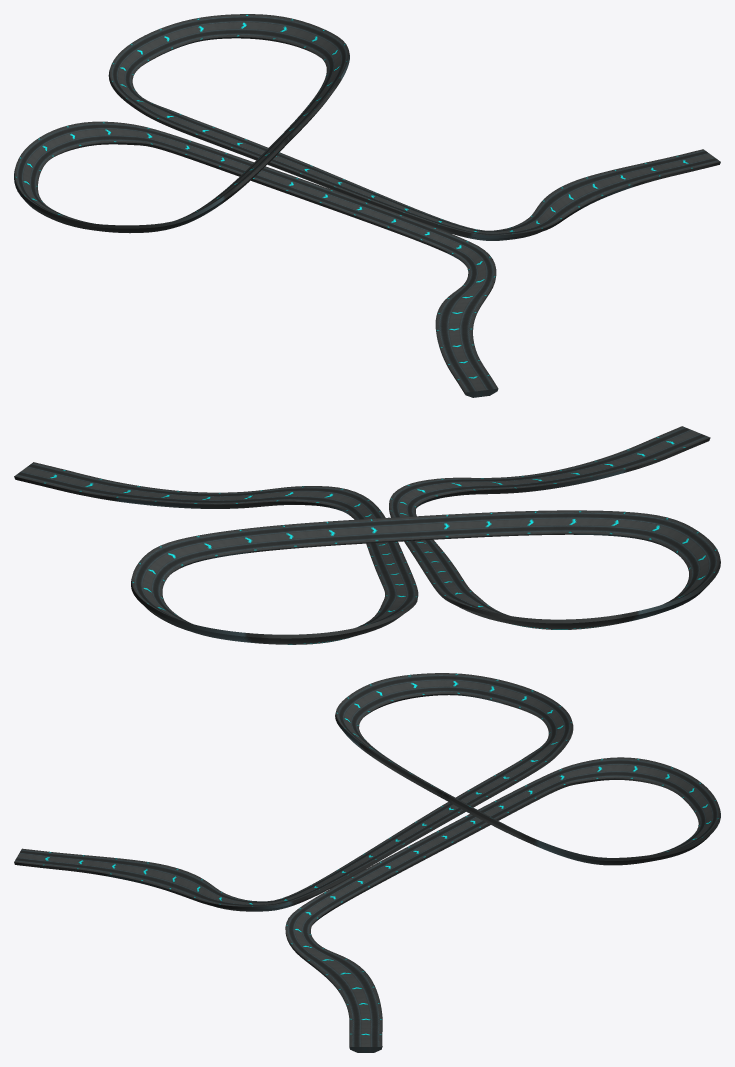
The model's file is CornerDoubleHelix.fbx.
The picture shows the model from 3 angles, top to bottom: view 1: azimuth 30°, elevation 25°; view 2: azimuth 150°, elevation 25°; view 3: azimuth 270°, elevation 25°; orthographic projection. The views are drawn at different scales.
Parts seen in each view (by area): view 1: DoubleHelix; view 2: DoubleHelix; view 3: DoubleHelix.
Part boxes in pixels (bbox=[...]): DoubleHelix: bbox=[14, 14, 720, 397]; DoubleHelix: bbox=[14, 426, 720, 644]; DoubleHelix: bbox=[14, 673, 720, 1052].
Bounding box in the file's own units: 908 × 119 × 913.
1 material, 1 textured.
